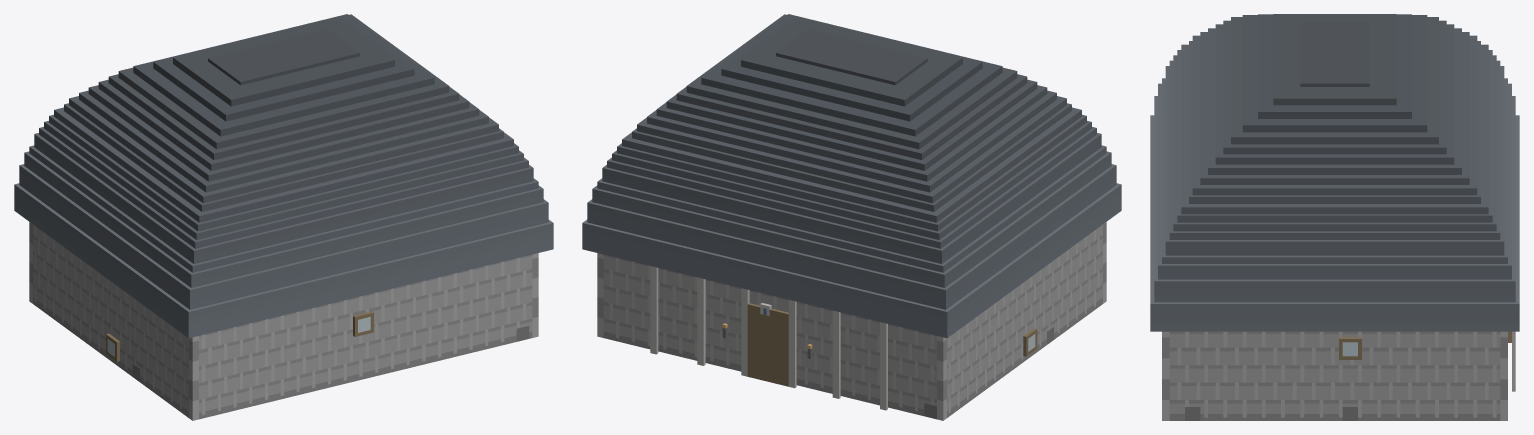
File: biblioteca_publica_04.glb
3 renders of one model, left to right at view 1: azimuth 30°, elevation 25°; view 2: azimuth 150°, elevation 25°; view 3: azimuth 270°, elevation 25°, orthographic. The views are drawn at different scales.
Parts seen in each view (by area): view 1: biblioteca_publica_04; view 2: biblioteca_publica_04; view 3: biblioteca_publica_04.
Boxes of the visible parts, box(x1,y1,x2,y2) form: biblioteca_publica_04: box(14, 14, 553, 420); biblioteca_publica_04: box(582, 14, 1121, 420); biblioteca_publica_04: box(1150, 14, 1519, 420).
Bounding box in the file's own units: 11.6 × 8 × 9.6.
